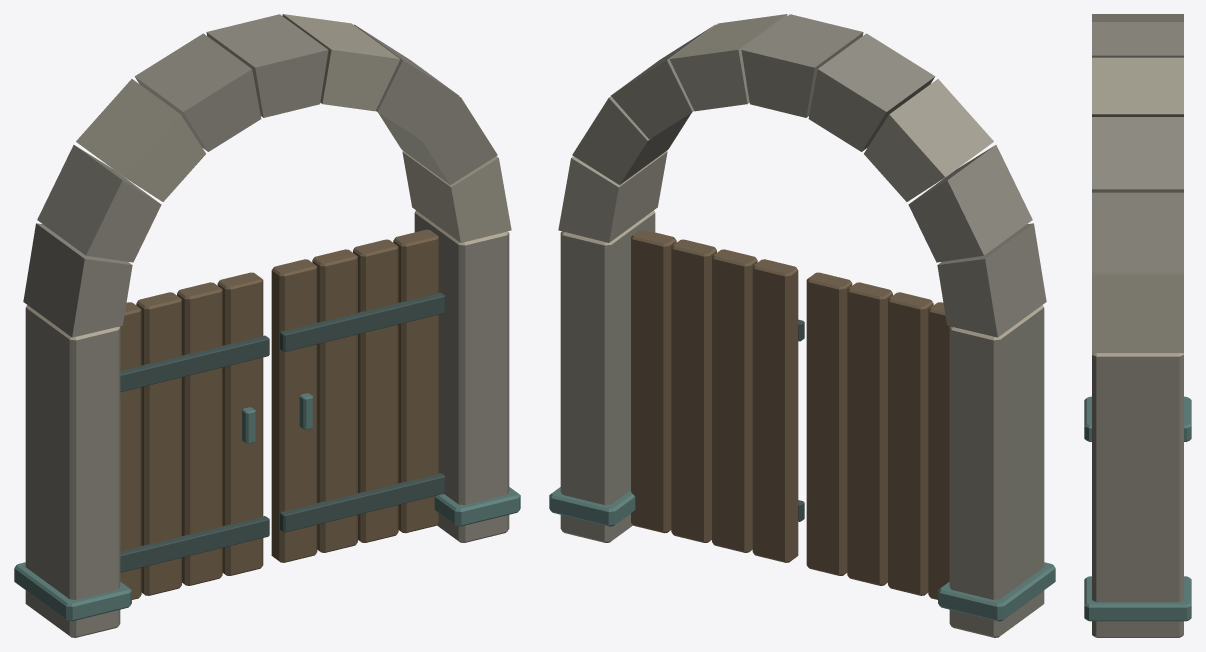
The model's file is doorway.glb.
The picture shows the model from 3 angles, left to right: view 1: azimuth 30°, elevation 25°; view 2: azimuth 150°, elevation 25°; view 3: azimuth 270°, elevation 25°; orthographic projection. The views are drawn at different scales.
Visible parts, largest first — view 1: doorway__body, doorway__leaf-right, doorway__leaf-left; view 2: doorway__body, doorway__leaf-right, doorway__leaf-left; view 3: doorway__body.
Boxes of the visible parts, box(x1,y1,x2,y2) form: doorway__body: box(14, 14, 520, 637); doorway__leaf-right: box(271, 229, 445, 562); doorway__leaf-left: box(119, 272, 269, 599); doorway__body: box(549, 14, 1055, 637); doorway__leaf-right: box(631, 229, 804, 562); doorway__leaf-left: box(806, 272, 950, 599); doorway__body: box(1084, 14, 1191, 637).
Size of the model in its own units: 2.69 by 2.98 by 0.58.
